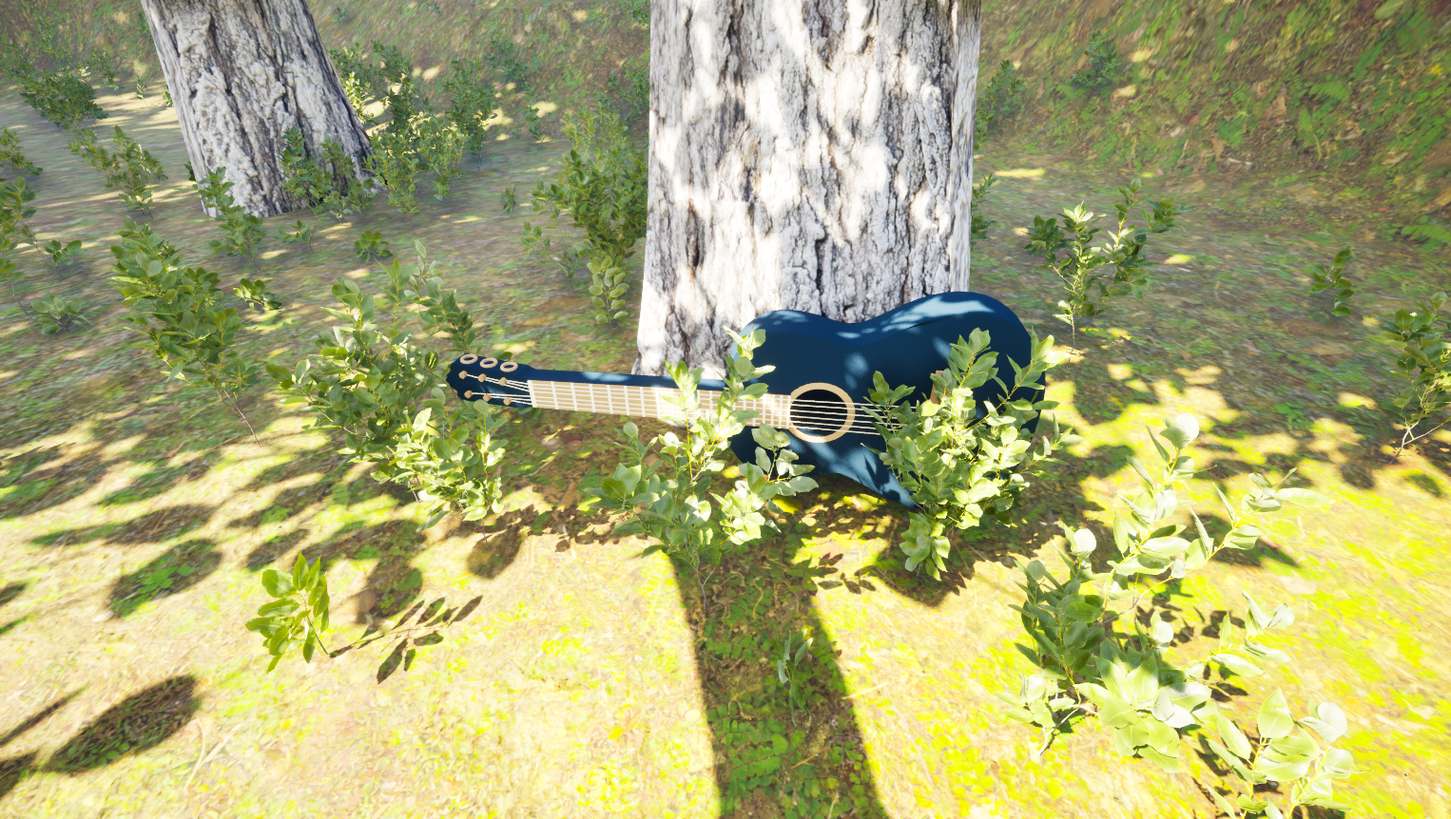Guitar: (407, 267, 1076, 519)
